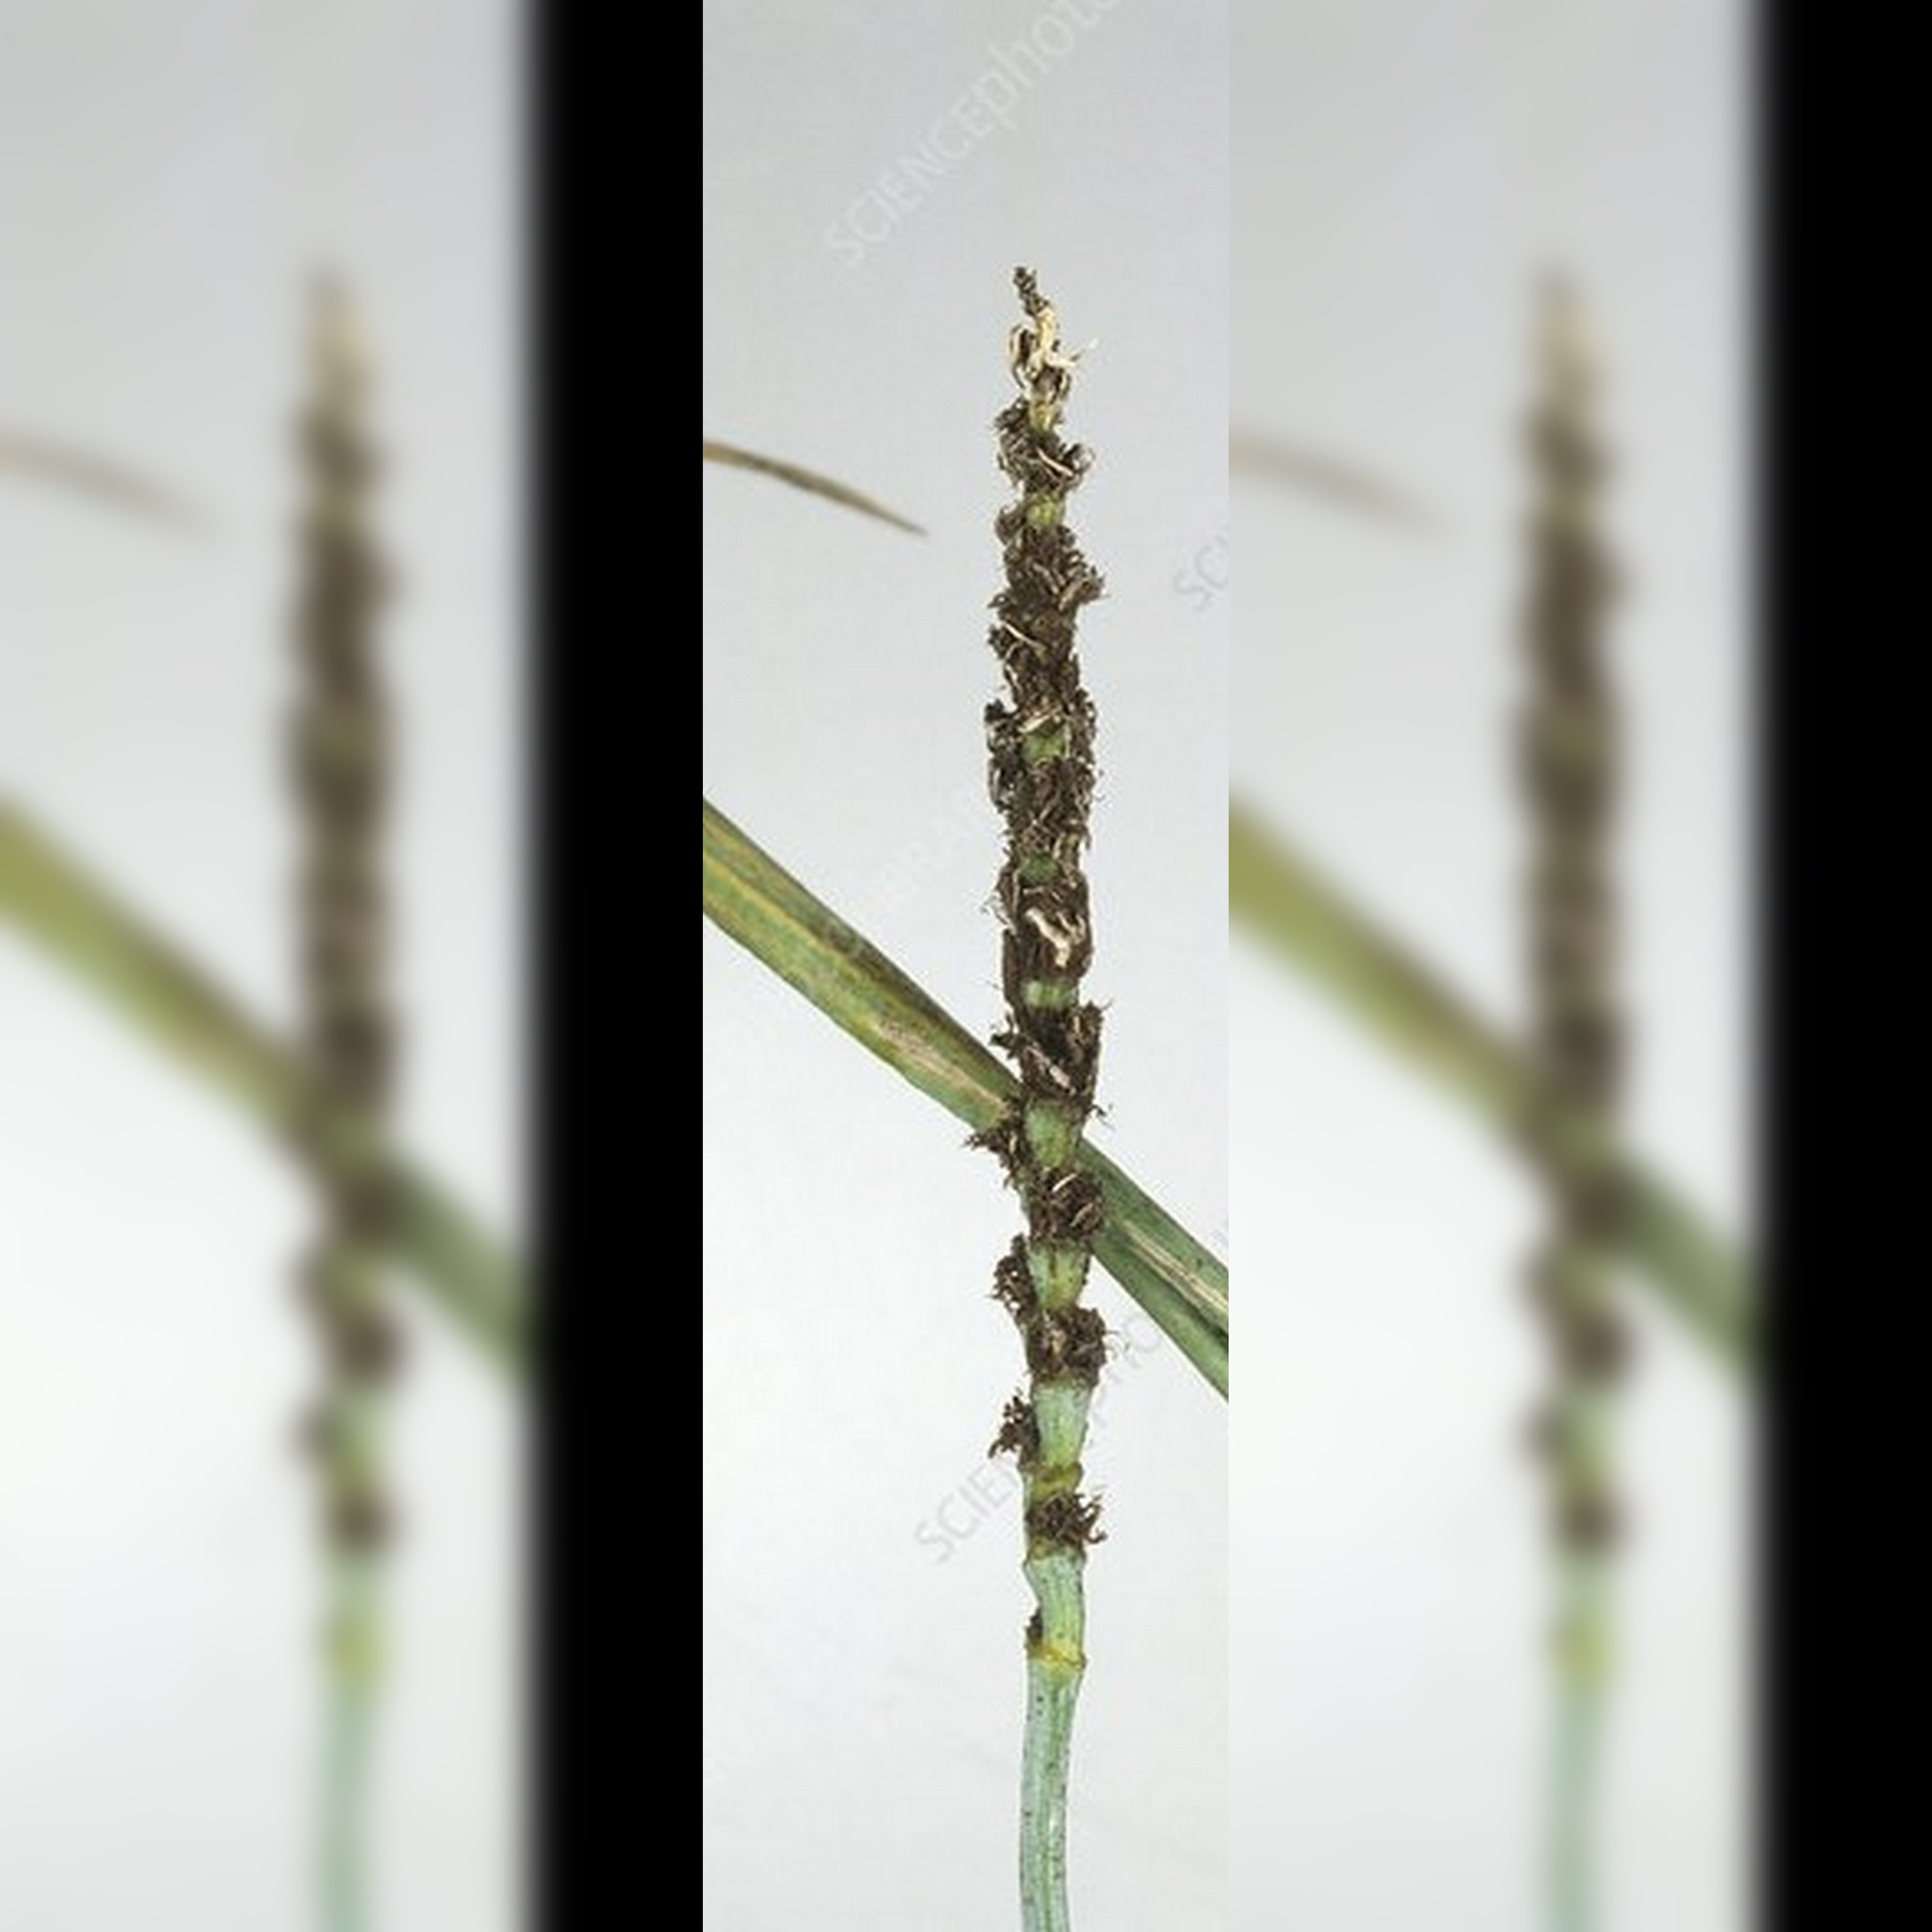Wheat Loose Smut: (911, 272, 1166, 1532)
